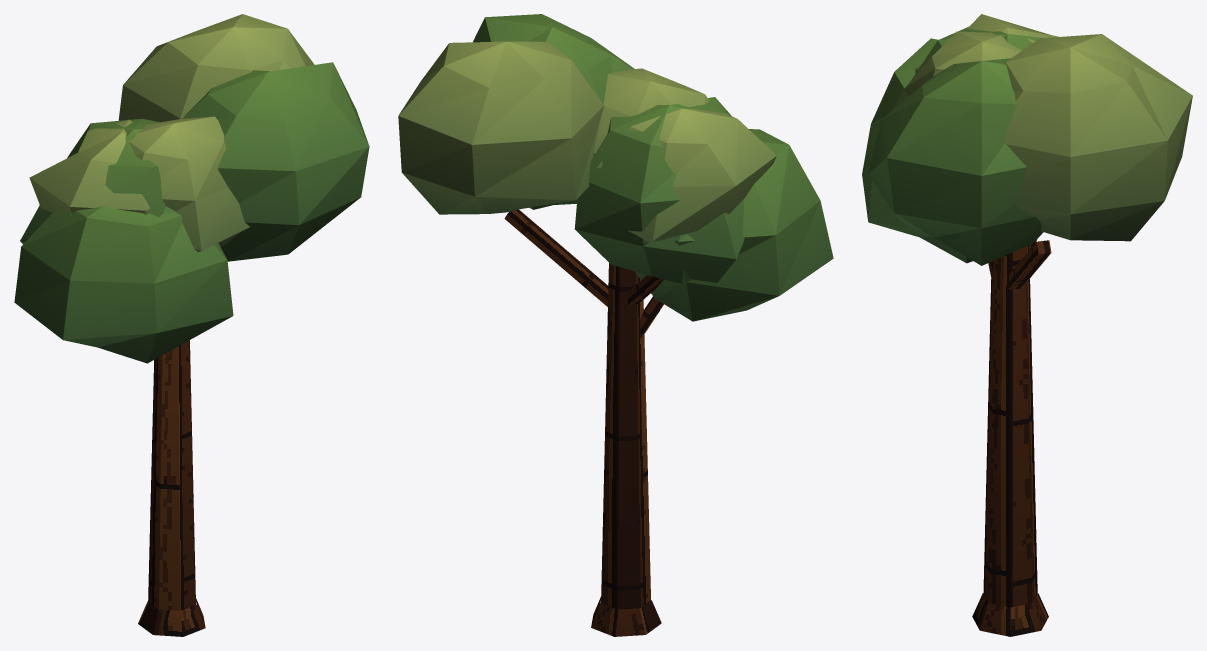
The model's file is birch_3_lowpoly.glb.
The picture shows the model from 3 angles, left to right: view 1: azimuth 30°, elevation 25°; view 2: azimuth 150°, elevation 25°; view 3: azimuth 270°, elevation 25°; orthographic projection. The views are drawn at different scales.
Parts seen in each view (by area): view 1: birch_3_lowpoly; view 2: birch_3_lowpoly; view 3: birch_3_lowpoly.
Boxes of the visible parts, x1,y1,x2,y2 form: birch_3_lowpoly: (14,14,369,636); birch_3_lowpoly: (398,14,833,636); birch_3_lowpoly: (862,14,1192,636).
Size of the model in its own units: 3.88 by 6.26 by 3.03.
2 materials, 1 textured.
